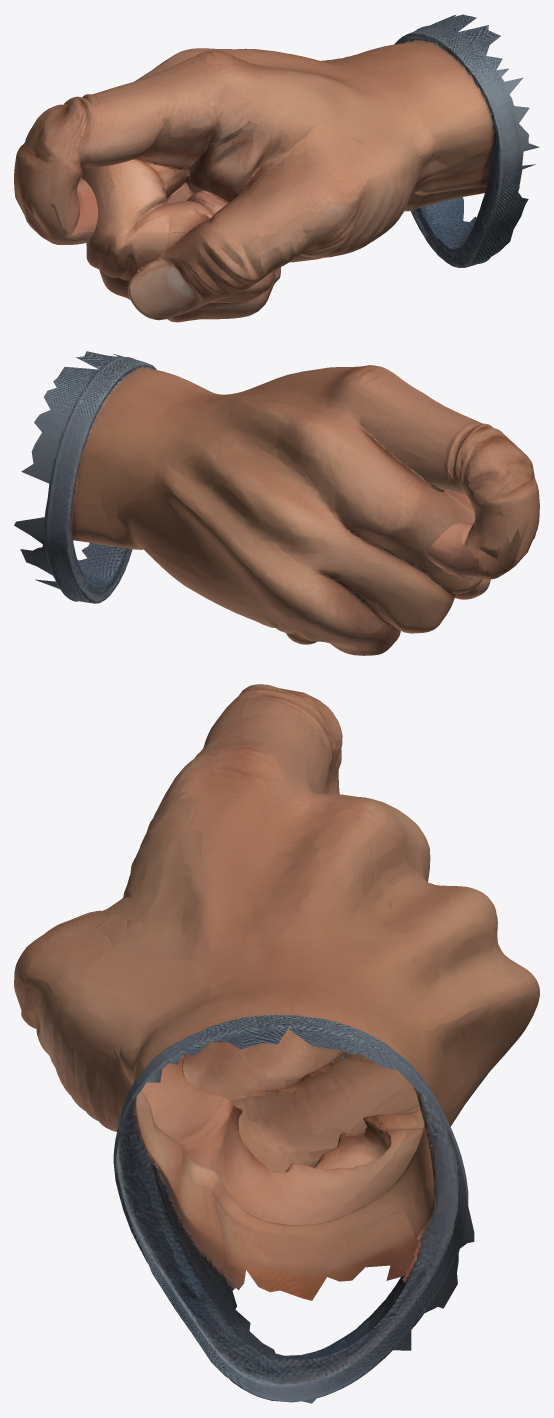
File: fist.glb
The picture shows the model from 3 angles, top to bottom: view 1: azimuth 30°, elevation 25°; view 2: azimuth 150°, elevation 25°; view 3: azimuth 270°, elevation 25°; orthographic projection. The views are drawn at different scales.
Visible parts, largest first — view 1: FIST; view 2: FIST; view 3: FIST.
Boxes of the visible parts, box(x1,y1,x2,y2) form: FIST: box(14, 14, 539, 322); FIST: box(14, 351, 539, 655); FIST: box(14, 684, 539, 1403).
Bounding box in the file's own units: 0.8656 × 0.5008 × 0.5341.
Materials: 1 (1 with a texture image).
